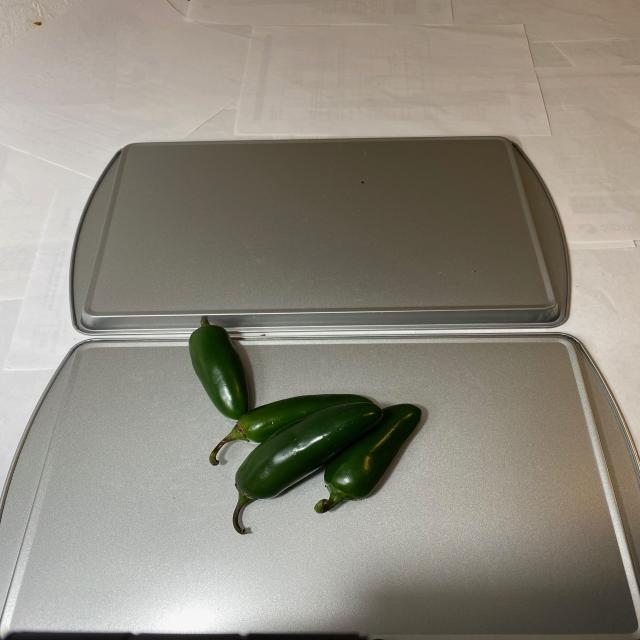chilli: (185, 314, 426, 533)
